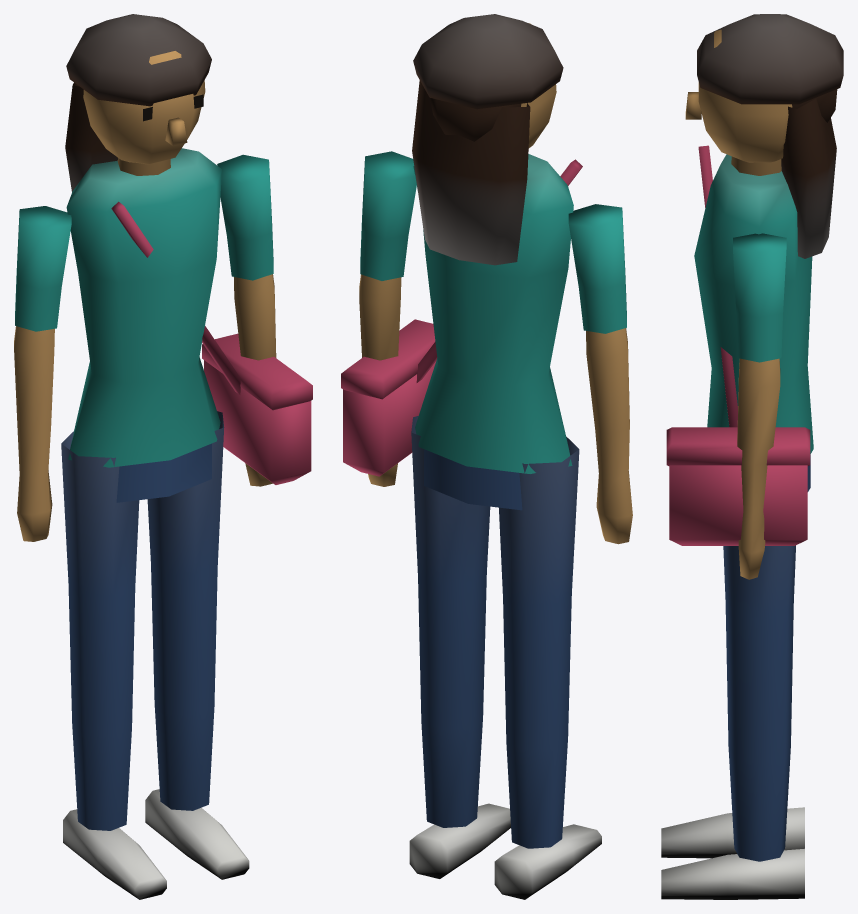
Rendered from peaton_mujer_a.glb.
3 renders of one model, left to right at view 1: azimuth 30°, elevation 25°; view 2: azimuth 150°, elevation 25°; view 3: azimuth 270°, elevation 25°, orthographic. The views are drawn at different scales.
Visible parts, largest first — view 1: peaton_mujer_a; view 2: peaton_mujer_a; view 3: peaton_mujer_a.
Part boxes in pixels (box(x1,y1,x2,y2)): peaton_mujer_a: box(14, 14, 312, 899); peaton_mujer_a: box(341, 14, 632, 899); peaton_mujer_a: box(661, 14, 843, 899).
Bounding box in the file's own units: 0.5866 × 1.77 × 0.3429.
